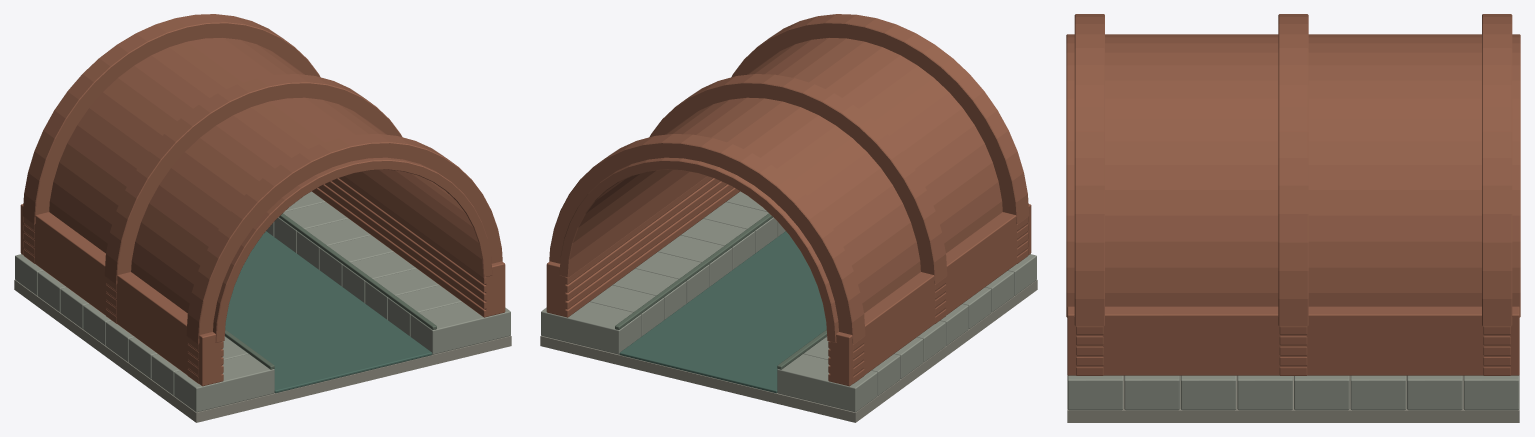
File: undercity-sewers-and-thieves-den-low-vault-tunnel-4c2d7a20__25010.glb
3 views of the same model, side by side, from view 1: azimuth 30°, elevation 25°; view 2: azimuth 150°, elevation 25°; view 3: azimuth 270°, elevation 25° (orthographic). The views are drawn at different scales.
Visible parts, largest first — view 1: low-vault-tunnel; view 2: low-vault-tunnel; view 3: low-vault-tunnel.
Boxes of the visible parts, box(x1,y1,x2,y2) form: low-vault-tunnel: box(14, 14, 511, 422); low-vault-tunnel: box(540, 14, 1037, 422); low-vault-tunnel: box(1066, 14, 1520, 422).
Size of the model in its own units: 4 by 2.86 by 4.02.
